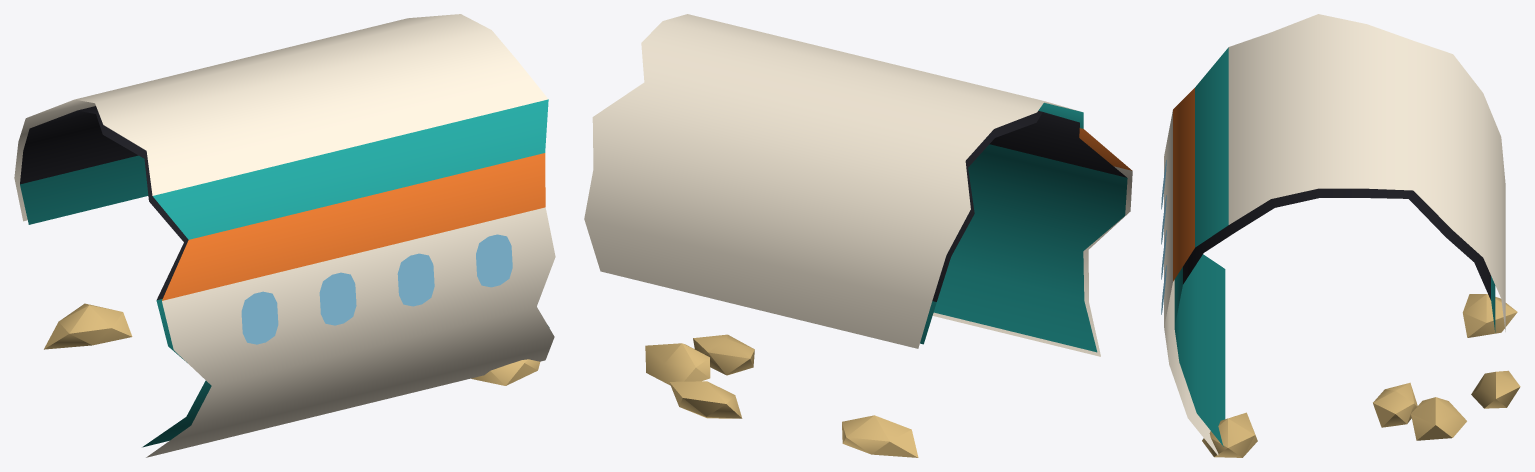
Rendered from TrozoFuselaje.fbx.
The picture shows the model from 3 angles, left to right: view 1: azimuth 30°, elevation 25°; view 2: azimuth 150°, elevation 25°; view 3: azimuth 270°, elevation 25°; orthographic projection. The views are drawn at different scales.
Parts seen in each view (by area): view 1: TrozoFuselaje; view 2: TrozoFuselaje; view 3: TrozoFuselaje.
Boxes of the visible parts, x1,y1,x2,y2 form: TrozoFuselaje: (14,14,555,457); TrozoFuselaje: (584,14,1132,457); TrozoFuselaje: (1161,14,1520,457).
Bounding box in the file's own units: 9.34 × 6.65 × 7.56.
Materials: 1 (1 with a texture image).
